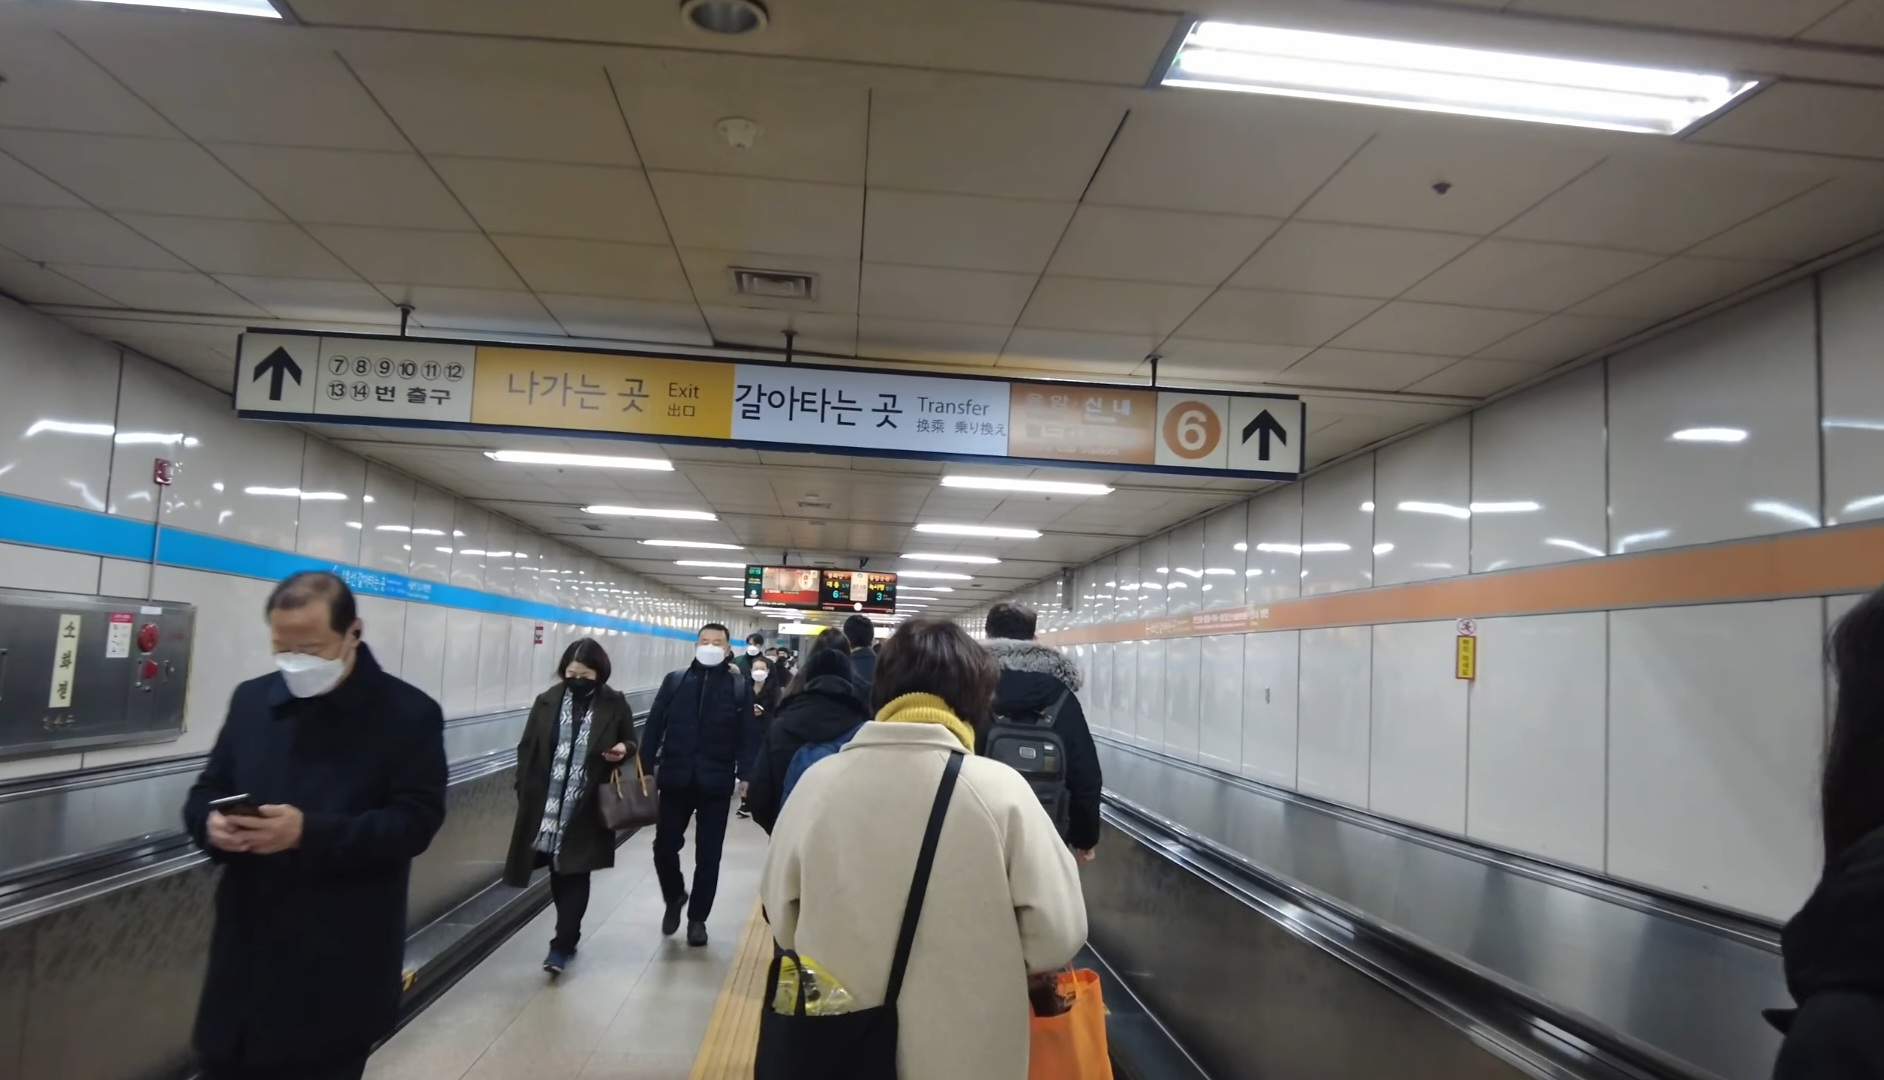signBoard: (216, 325, 1315, 488)
